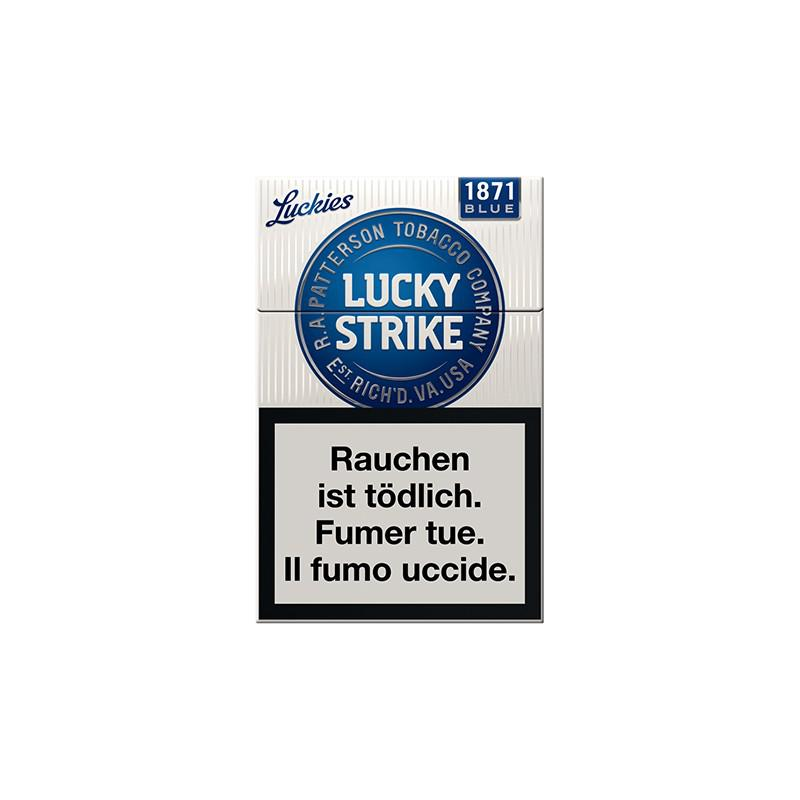lucky_strike_blue: (259, 171, 543, 625)
